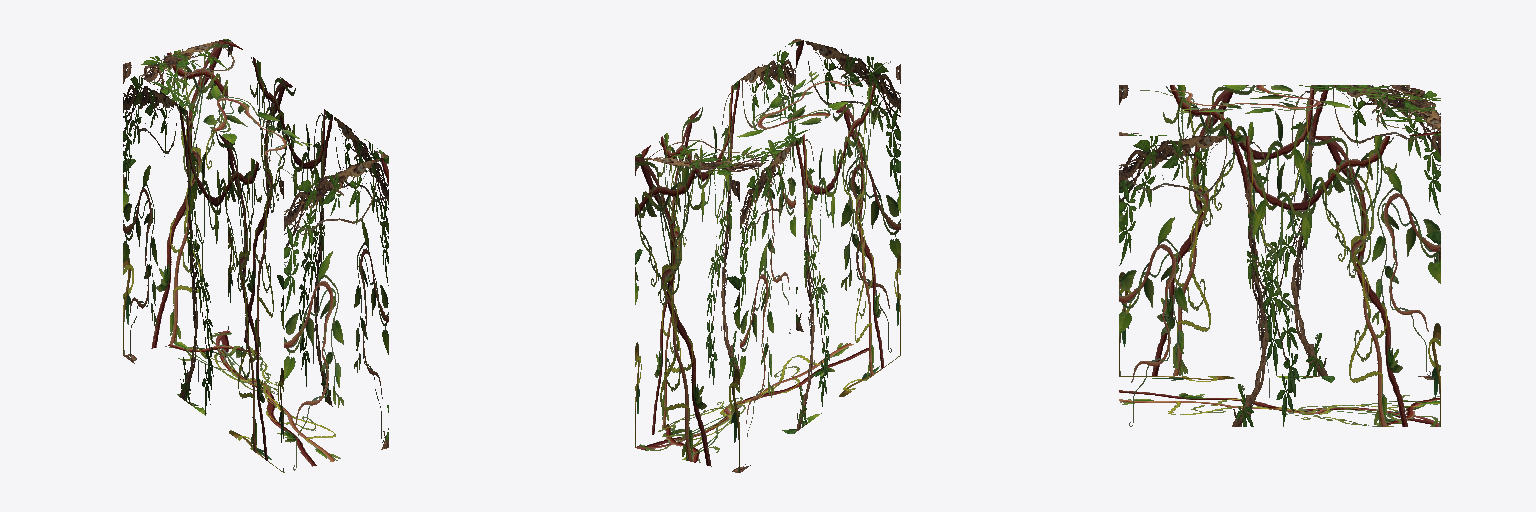
3 renders of one model, left to right at view 1: azimuth 30°, elevation 25°; view 2: azimuth 150°, elevation 25°; view 3: azimuth 270°, elevation 25°, orthographic.
Visible parts, largest first — view 1: Mesh1 Model; view 2: Mesh1 Model; view 3: Mesh1 Model.
Boxes of the visible parts, x1,y1,x2,y2 form: Mesh1 Model: [123, 39, 388, 472]; Mesh1 Model: [635, 39, 900, 472]; Mesh1 Model: [1119, 85, 1440, 426].
Bounding box in the file's own units: 3 × 8 × 8.
Materials: 1 (1 with a texture image).